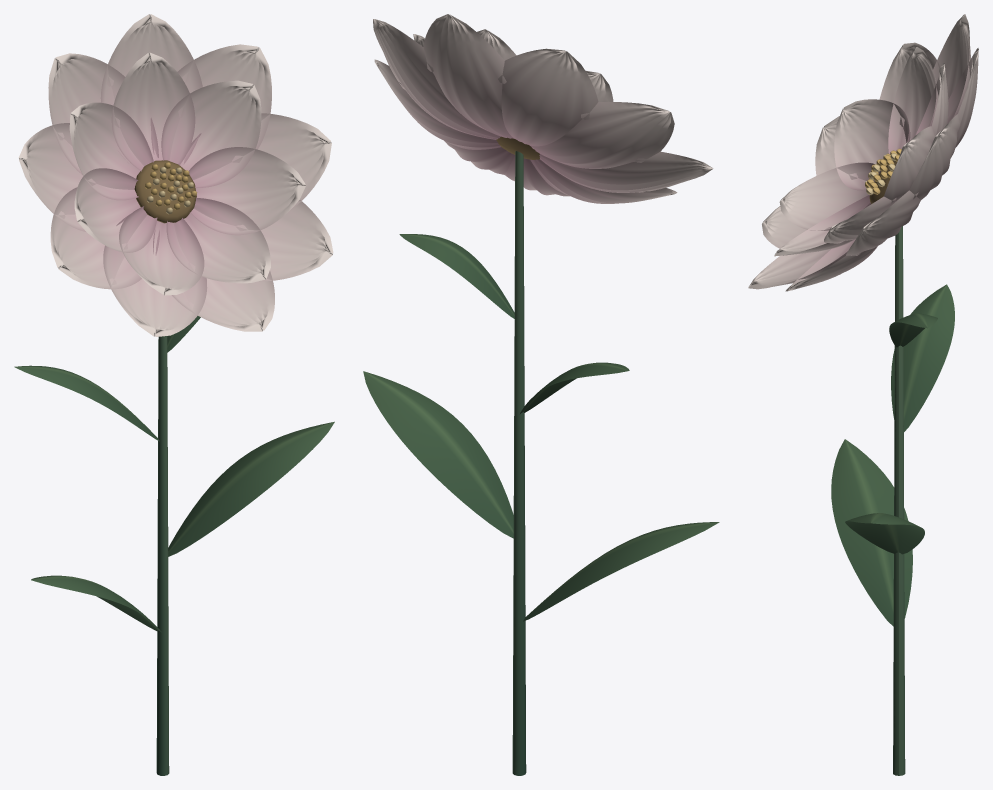
File: hero-flower.glb
3 renders of one model, left to right at view 1: azimuth 30°, elevation 25°; view 2: azimuth 150°, elevation 25°; view 3: azimuth 270°, elevation 25°, orthographic. The views are drawn at different scales.
Visible parts, largest first — view 1: Leaf_Lower_Right, Petal_1_06, Petal_1_00, Petal_1_05, Petal_1_01, Stem, Petal_1_04, Petal_1_02, Petal_1_03, Petal_0_06, Petal_0_03, Petal_0_04 (+10 smaller); view 2: Leaf_Lower_Right, Petal_0_06, Stem, Petal_0_07, Petal_0_05, Petal_0_08, Petal_0_04, Leaf_Lower_Left, Leaf_Upper_Right, Petal_0_00, Petal_0_03, Leaf_Upper_Left (+2 smaller); view 3: Leaf_Lower_Left, Stem, Leaf_Upper_Left, Petal_1_03, Petal_1_02, Petal_1_04, Leaf_Lower_Right, Petal_0_00, Petal_0_08, Petal_0_06, Petal_1_06, Petal_0_02 (+10 smaller).
Boxes of the visible parts, bbox=[...] form: Leaf_Lower_Right: bbox=[168, 421, 334, 556]; Petal_1_06: bbox=[161, 80, 261, 187]; Petal_1_00: bbox=[189, 147, 305, 235]; Petal_1_05: bbox=[111, 52, 195, 171]; Petal_1_01: bbox=[166, 198, 270, 283]; Stem: bbox=[156, 336, 169, 775]; Petal_1_04: bbox=[69, 102, 153, 200]; Petal_1_02: bbox=[119, 206, 204, 295]; Petal_1_03: bbox=[74, 168, 157, 252]; Petal_0_06: bbox=[48, 53, 158, 174]; Petal_0_03: bbox=[103, 214, 207, 336]; Petal_0_04: bbox=[50, 187, 159, 289]; Leaf_Lower_Right: bbox=[363, 371, 513, 538]; Petal_0_06: bbox=[498, 48, 598, 146]; Stem: bbox=[512, 151, 526, 775]; Petal_0_07: bbox=[423, 14, 513, 138]; Petal_0_05: bbox=[530, 101, 674, 168]; Petal_0_08: bbox=[373, 19, 500, 139]; Petal_0_04: bbox=[539, 151, 713, 192]; Leaf_Lower_Left: bbox=[523, 522, 719, 621]; Leaf_Upper_Right: bbox=[399, 234, 514, 318]; Petal_0_00: bbox=[374, 59, 501, 149]; Petal_0_03: bbox=[530, 159, 677, 203]; Leaf_Upper_Left: bbox=[520, 362, 629, 413]; Leaf_Lower_Left: bbox=[831, 439, 912, 626]; Stem: bbox=[893, 226, 905, 775]; Leaf_Upper_Left: bbox=[891, 284, 954, 431]; Petal_1_03: bbox=[834, 99, 910, 190]; Petal_1_02: bbox=[779, 162, 880, 230]; Petal_1_04: bbox=[888, 47, 938, 153]; Leaf_Lower_Right: bbox=[845, 513, 924, 554]; Petal_0_00: bbox=[846, 190, 920, 255]; Petal_0_08: bbox=[909, 114, 960, 199]; Petal_0_06: bbox=[933, 14, 970, 117]; Petal_1_06: bbox=[884, 126, 934, 203]; Petal_0_02: bbox=[748, 249, 847, 289].
Bounding box in the file's own units: 1.8 × 3.94 × 1.12.
